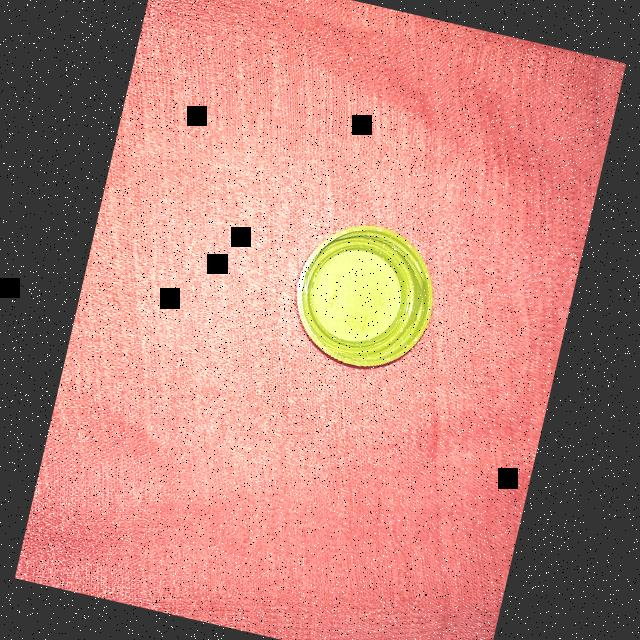plastic_bottle_cap: (282, 212, 448, 380)
